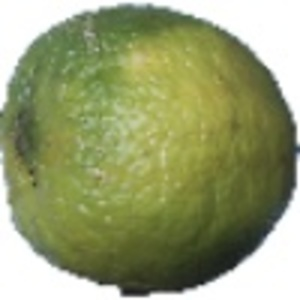limão: (1, 2, 300, 296)
